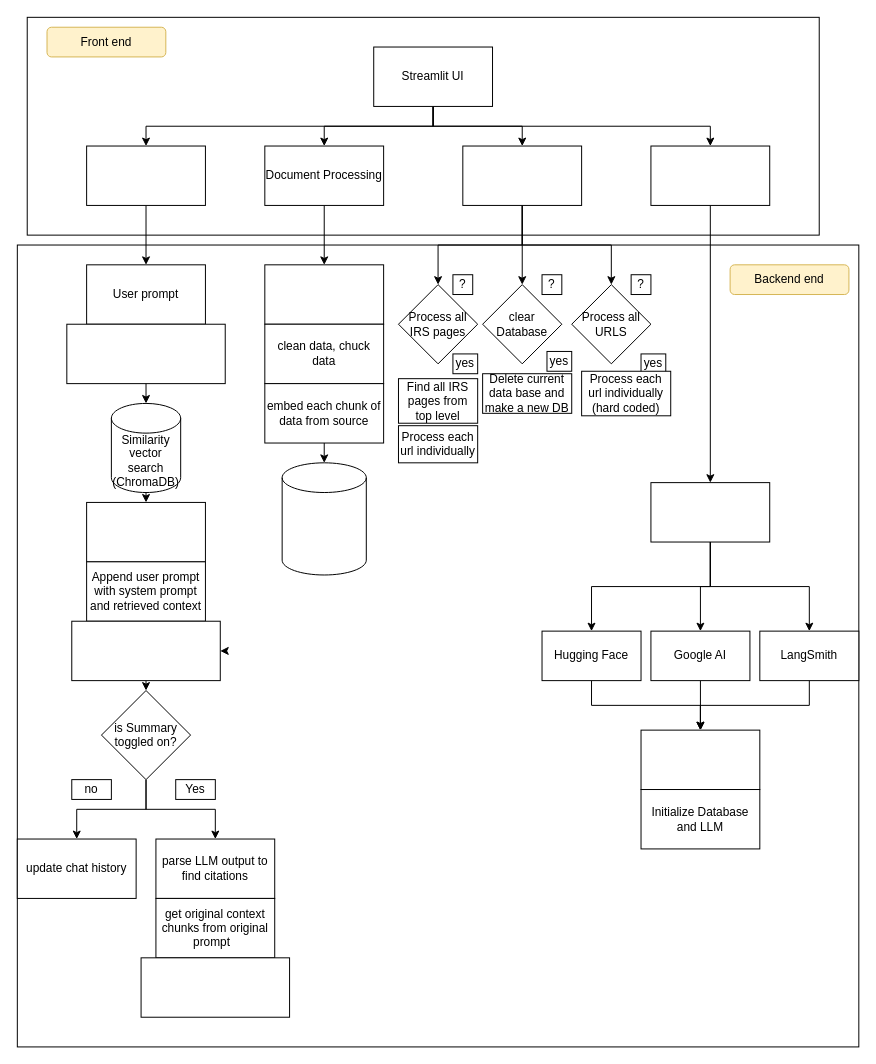
Some shapes in this 876 by 1064 pixel diagram are drawn without their labels. Each missing label, with the centre of its shape:
"Admin Panel" belongs at [522,175].
"Chat" belongs at [145,175].
"Configuration Panel" belongs at [710,175].
"Configure API keys" belongs at [710,512].
"embed user prompt 🤖 all-mpnet-base-v2" belongs at [145,353].
"LLM output 🤖 gemini-2.0-flash" belongs at [145,650].
"Return k matches" belongs at [145,531].
"save keys to enviroment variable" belongs at [700,759].
"Store vectors in Database (ChromaDB)" belongs at [323,518].
"summarize and add to chat 🤖 gemini-2.0-flash" belongs at [215,987].
"Upload source, URL or document upload" belongs at [324,294].
